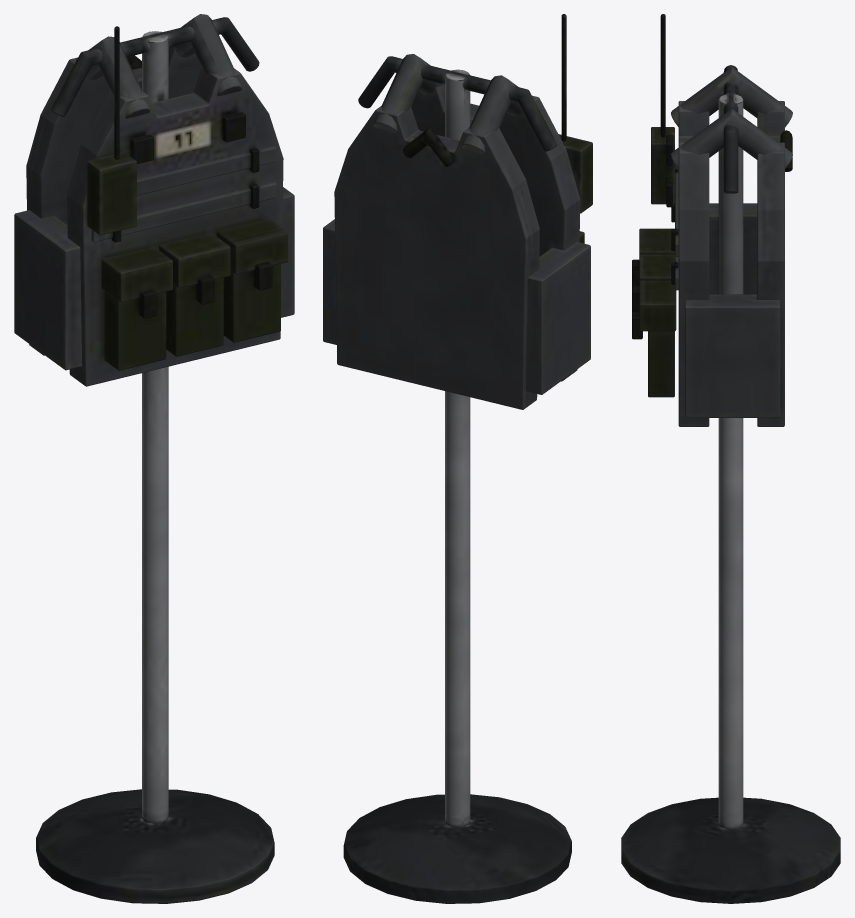
Rendered from armour_vest.glb.
3 views of the same model, side by side, from view 1: azimuth 30°, elevation 25°; view 2: azimuth 150°, elevation 25°; view 3: azimuth 270°, elevation 25° (orthographic). The views are drawn at different scales.
Parts seen in each view (by area): view 1: armour_vest; view 2: armour_vest; view 3: armour_vest.
Boxes of the visible parts, x1=… form: armour_vest: x1=14, y1=14, x2=294, y2=903; armour_vest: x1=323, y1=14, x2=592, y2=903; armour_vest: x1=621, y1=14, x2=840, y2=903.
Bounding box in the file's own units: 0.4 × 1.45 × 0.3563.
1 material, 1 textured.
